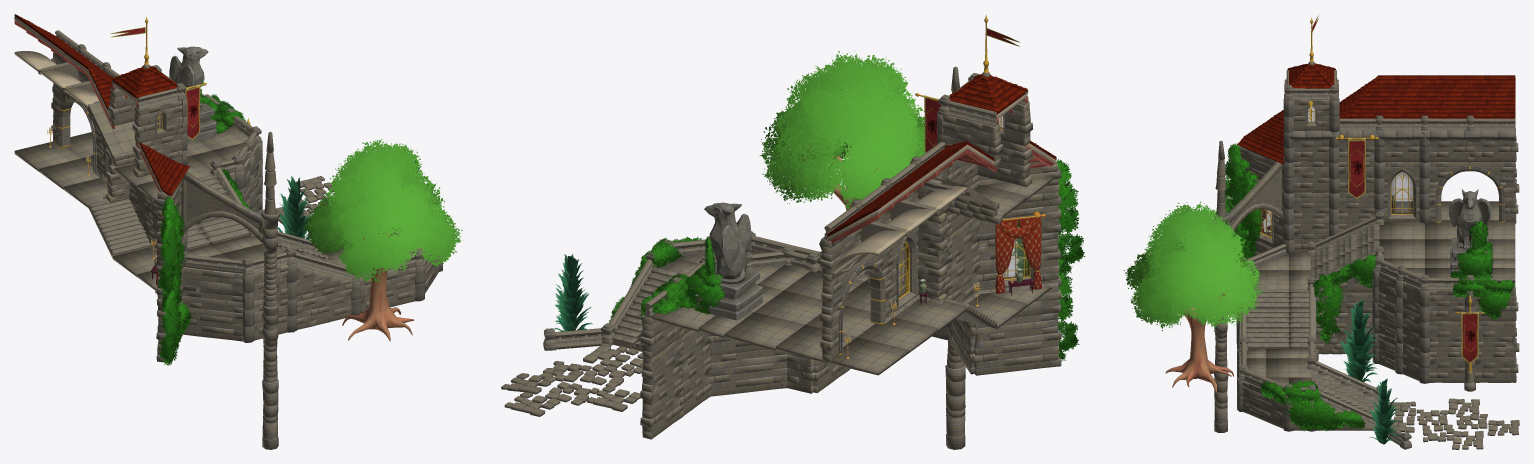
File: cell_x0_z1_render.gltf
3 renders of one model, left to right at view 1: azimuth 30°, elevation 25°; view 2: azimuth 150°, elevation 25°; view 3: azimuth 270°, elevation 25°, orthographic. The views are drawn at different scales.
Visible parts, largest first — view 1: SM_ENV_tree_castle_01_LOD0.027, SM_MOD_deco_flying_buttress_castle_LOD0.029, SM_MOD_wall_big_diagonal_castle_LOD0.097, SM_MOD_stairs_straight_01_castle_LOD0.004, SM_MOD_deco_flying_buttress_ext_castle_LOD0.040, SM_PROP_statue_castle_01_LOD0.008, SM_MOD_wall_huge_door_castle_LOD0.001, SM_MOD_wall_small_window_castle_LOD0.021, SM_ENV_bush_castle_08_LOD0.032, SM_MOD_roof_cap_cross_castle_LOD0.003, SM_ENV_bush_castle_08_LOD0.009, SM_MOD_wall_small_castle_LOD0.288 (+34 smaller); view 2: SM_ENV_tree_castle_01_LOD0.027, SM_MOD_wall_big_diagonal_castle_LOD0.068, SM_PROP_statue_castle_01_LOD0.008, SM_MOD_wall_big_diagonal_window_castle_LOD0.007, SM_MOD_wall_huge_door_castle_LOD0.001, SM_MOD_wall_big_castle_LOD0.082, SM_MOD_wall_small_diagonal_castle_LOD0.013, SM_PROP_curtain_castle_01_LOD0.022, SM_MOD_wall_big_castle_LOD0.062, SM_MOD_wall_big_castle_LOD0.204, SM_MOD_roof_cap_cross_castle_LOD0.003, SM_MOD_wall_big_half_castle_LOD0.032 (+51 smaller); view 3: SM_ENV_tree_castle_01_LOD0.027, SM_MOD_wall_huge_door_castle_LOD0.001, SM_MOD_wall_big_castle_LOD0.082, SM_MOD_deco_flying_buttress_castle_LOD0.029, SM_MOD_wall_big_diagonal_castle_LOD0.111, SM_MOD_wall_big_windows_castle_LOD0.002, SM_MOD_wall_big_castle_LOD0.062, SM_MOD_roof_sloped_castle_LOD0.001, SM_MOD_roof_sloped_castle_LOD0.023, SM_MOD_roof_sloped_castle_LOD0.008, SM_MOD_wall_big_castle_LOD0.204, SM_PROP_statue_castle_01_LOD0.008 (+81 smaller).
Boxes of the visible parts, x1,y1,x2,y2 form: SM_ENV_tree_castle_01_LOD0.027: [302, 139, 462, 341]; SM_MOD_deco_flying_buttress_castle_LOD0.029: [181, 131, 279, 316]; SM_MOD_wall_big_diagonal_castle_LOD0.097: [183, 267, 243, 341]; SM_MOD_stairs_straight_01_castle_LOD0.004: [88, 197, 151, 258]; SM_MOD_deco_flying_buttress_ext_castle_LOD0.040: [262, 313, 278, 449]; SM_PROP_statue_castle_01_LOD0.008: [169, 46, 216, 142]; SM_MOD_wall_huge_door_castle_LOD0.001: [51, 83, 103, 176]; SM_MOD_wall_small_window_castle_LOD0.021: [132, 100, 182, 143]; SM_ENV_bush_castle_08_LOD0.032: [158, 196, 180, 295]; SM_MOD_roof_cap_cross_castle_LOD0.003: [112, 65, 177, 107]; SM_ENV_bush_castle_08_LOD0.009: [159, 270, 181, 365]; SM_MOD_wall_small_castle_LOD0.288: [311, 283, 351, 325]; SM_ENV_tree_castle_01_LOD0.027: [759, 50, 925, 210]; SM_MOD_wall_big_diagonal_castle_LOD0.068: [971, 287, 1061, 375]; SM_PROP_statue_castle_01_LOD0.008: [694, 202, 762, 320]; SM_MOD_wall_big_diagonal_window_castle_LOD0.007: [978, 205, 1061, 290]; SM_MOD_wall_huge_door_castle_LOD0.001: [820, 245, 893, 362]; SM_MOD_wall_big_castle_LOD0.082: [640, 337, 683, 439]; SM_MOD_wall_small_diagonal_castle_LOD0.013: [710, 349, 787, 396]; SM_PROP_curtain_castle_01_LOD0.022: [995, 211, 1046, 293]; SM_MOD_wall_big_castle_LOD0.062: [679, 330, 711, 415]; SM_MOD_wall_big_castle_LOD0.204: [948, 218, 979, 302]; SM_MOD_roof_cap_cross_castle_LOD0.003: [949, 74, 1027, 124]; SM_MOD_wall_big_half_castle_LOD0.032: [918, 220, 947, 300]; SM_ENV_tree_castle_01_LOD0.027: [1124, 201, 1263, 393]; SM_MOD_wall_huge_door_castle_LOD0.001: [1429, 162, 1519, 223]; SM_MOD_wall_big_castle_LOD0.082: [1475, 321, 1519, 382]; SM_MOD_deco_flying_buttress_castle_LOD0.029: [1214, 140, 1282, 302]; SM_MOD_wall_big_diagonal_castle_LOD0.111: [1378, 271, 1420, 349]; SM_MOD_wall_big_windows_castle_LOD0.002: [1384, 162, 1419, 221]; SM_MOD_wall_big_castle_LOD0.062: [1429, 321, 1464, 382]; SM_MOD_roof_sloped_castle_LOD0.001: [1470, 75, 1515, 129]; SM_MOD_roof_sloped_castle_LOD0.023: [1379, 75, 1424, 123]; SM_MOD_roof_sloped_castle_LOD0.008: [1425, 75, 1469, 123]; SM_MOD_wall_big_castle_LOD0.204: [1293, 192, 1329, 252]; SM_PROP_statue_castle_01_LOD0.008: [1449, 189, 1491, 275].
Size of the model in its own units: 34.08 by 37.04 by 35.55.
17 materials, 17 textured.
